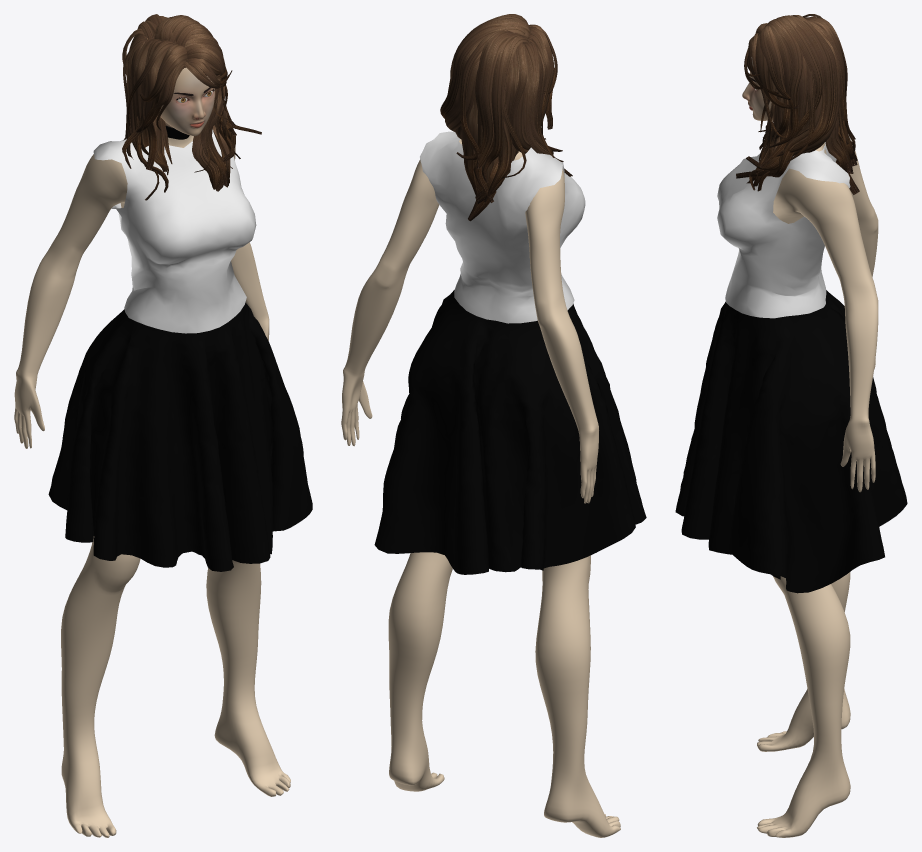
Rendered from Human.fbx.
3 renders of one model, left to right at view 1: azimuth 30°, elevation 25°; view 2: azimuth 150°, elevation 25°; view 3: azimuth 270°, elevation 25°, orthographic. The views are drawn at different scales.
Parts seen in each view (by area): view 1: dress, Head, Box001, Head1; view 2: dress, Head, Box001; view 3: dress, Head, Box001, Head1.
Part boxes in pixels (x1=…): dress: x1=48, y1=128, x2=312, y2=571; Head: x1=14, y1=135, x2=290, y2=837; Box001: x1=122, y1=14, x2=261, y2=200; Head1: x1=160, y1=67, x2=215, y2=135; dress: x1=374, y1=131, x2=646, y2=574; Head: x1=341, y1=139, x2=620, y2=837; Box001: x1=440, y1=14, x2=572, y2=221; dress: x1=675, y1=134, x2=907, y2=593; Head: x1=757, y1=138, x2=878, y2=837; Box001: x1=736, y1=14, x2=859, y2=194; Head1: x1=742, y1=58, x2=772, y2=120.
Size of the model in its own units: 25.17 by 75.83 by 20.7.
